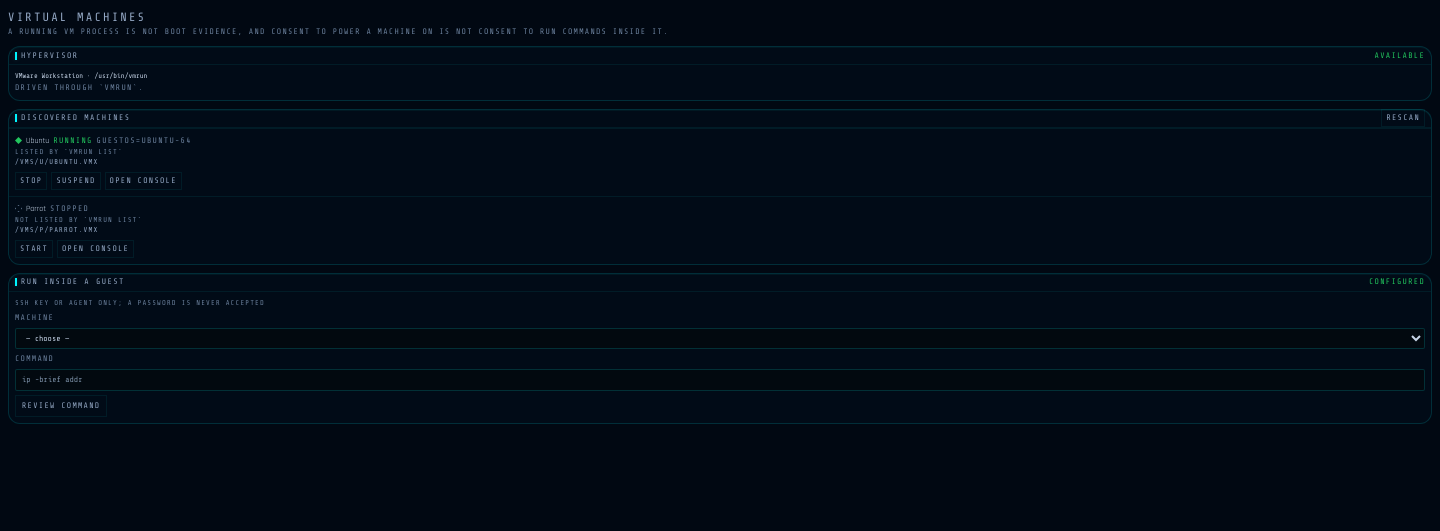
Scenario: VirtualMachinesView › does not run anything when the preview is cancelled
Check: the list named "Discovered machines" is shown, box [9,128,1431,264]
Click the button "START": x=34, y=248 [15,240,53,258]
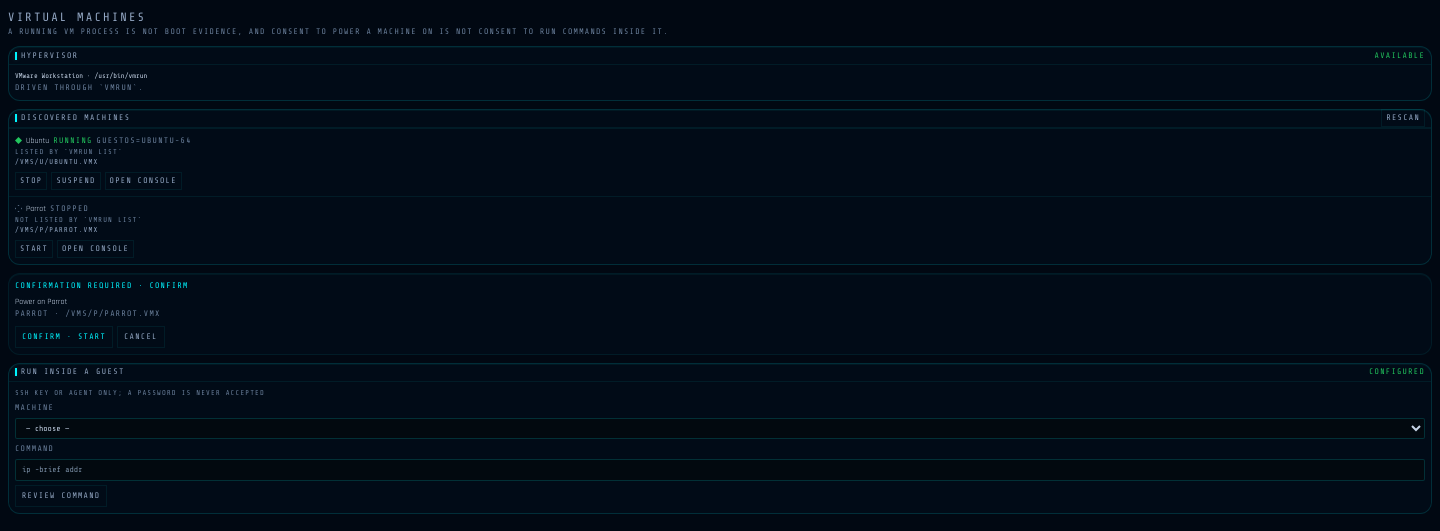
Check: the button "CONFIRM · start" is shown, box [15,326,113,348]
Click the button "CANCEL": x=141, y=336 [117,326,165,348]
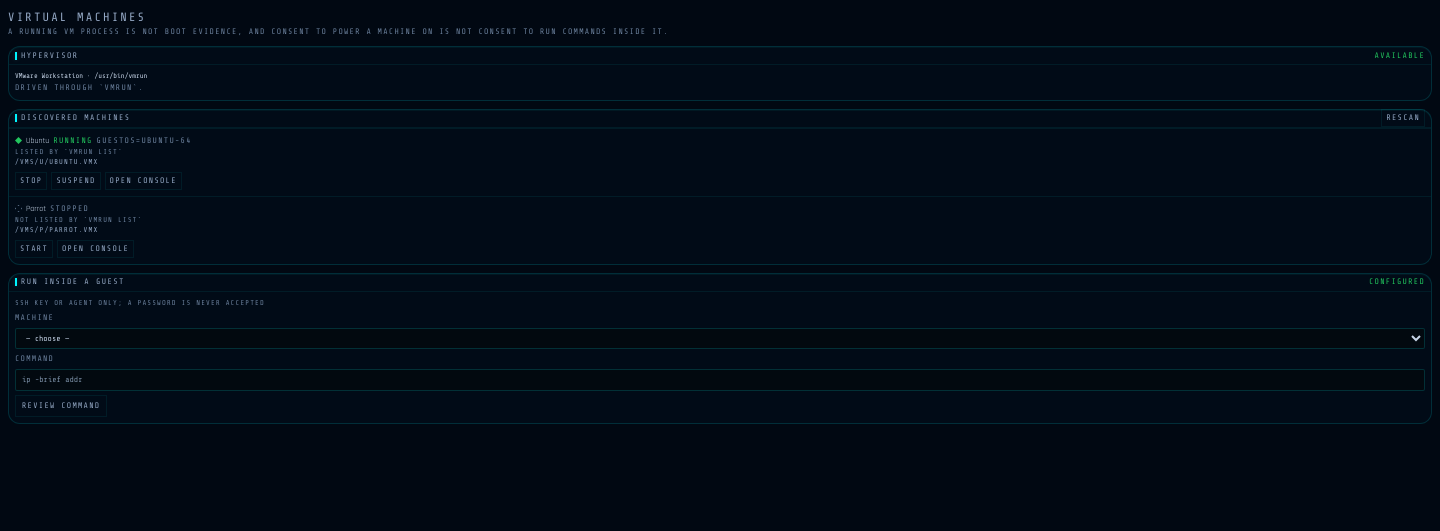
Check: the text "CONFIRMATION REQUIRED · CONFIRM" is gone
